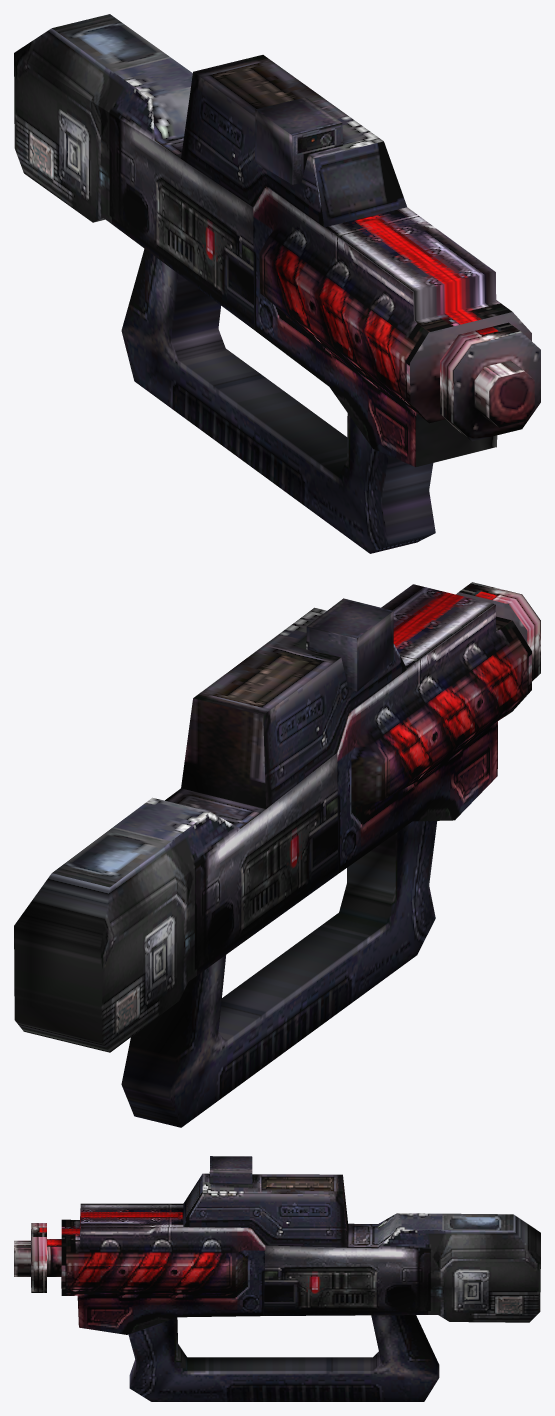
The picture shows the model from 3 angles, top to bottom: view 1: azimuth 30°, elevation 25°; view 2: azimuth 150°, elevation 25°; view 3: azimuth 270°, elevation 25°; orthographic projection. The views are drawn at different scales.
Visible parts, largest first — view 1: Prometheus; view 2: Prometheus; view 3: Prometheus.
Part boxes in pixels (bbox=[...]): Prometheus: bbox=[14, 14, 540, 553]; Prometheus: bbox=[14, 582, 540, 1127]; Prometheus: bbox=[14, 1156, 540, 1401].
Bounding box in the file's own units: 5.14 × 15.54 × 32.99.
Materials: 1 (1 with a texture image).
